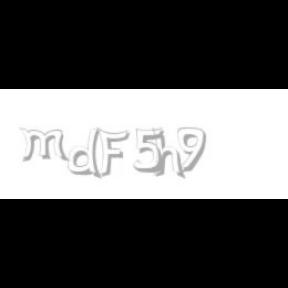5: (132, 128, 163, 174)
9: (178, 128, 206, 172)
F: (97, 128, 129, 178)
d: (68, 128, 104, 180)
h: (152, 128, 186, 180)
m: (18, 128, 70, 162)
